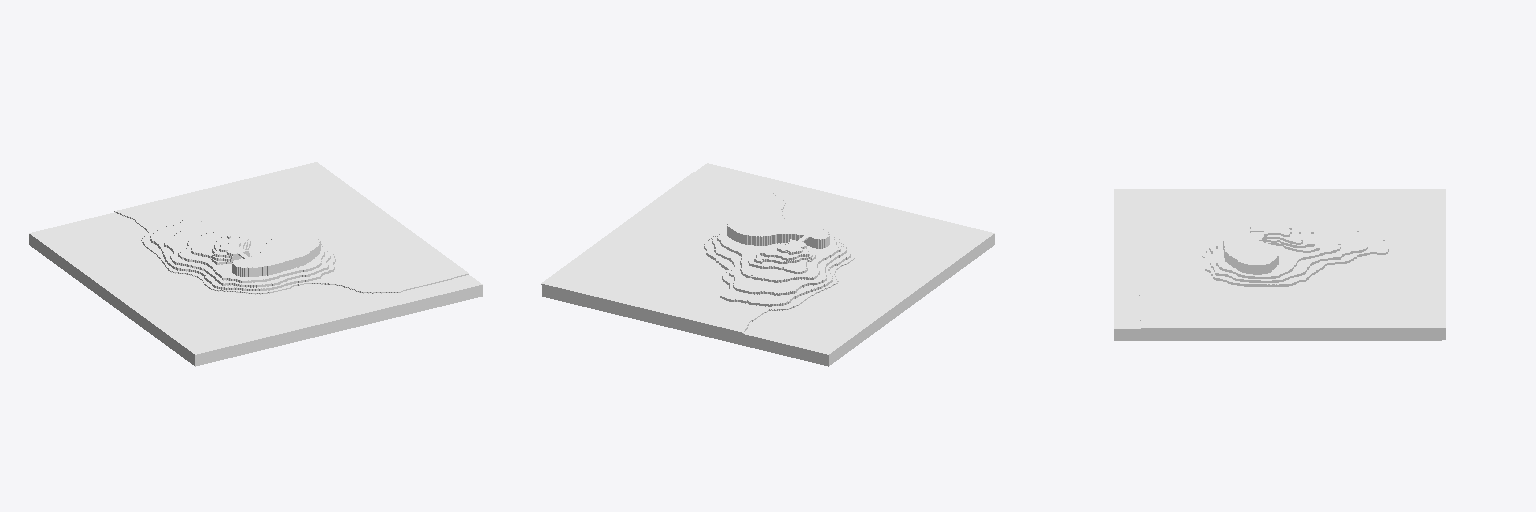
The model's file is islandBL.obj.
3 renders of one model, left to right at view 1: azimuth 30°, elevation 25°; view 2: azimuth 150°, elevation 25°; view 3: azimuth 270°, elevation 25°, orthographic.
Parts seen in each view (by area): view 1: Island-BL; view 2: Island-BL; view 3: Island-BL.
Boxes of the visible parts, x1=… form: Island-BL: x1=29, y1=162, x2=482, y2=366; Island-BL: x1=541, y1=163, x2=994, y2=366; Island-BL: x1=1114, y1=189, x2=1445, y2=340.
Size of the model in its own units: 25.6 by 2.5 by 25.6.